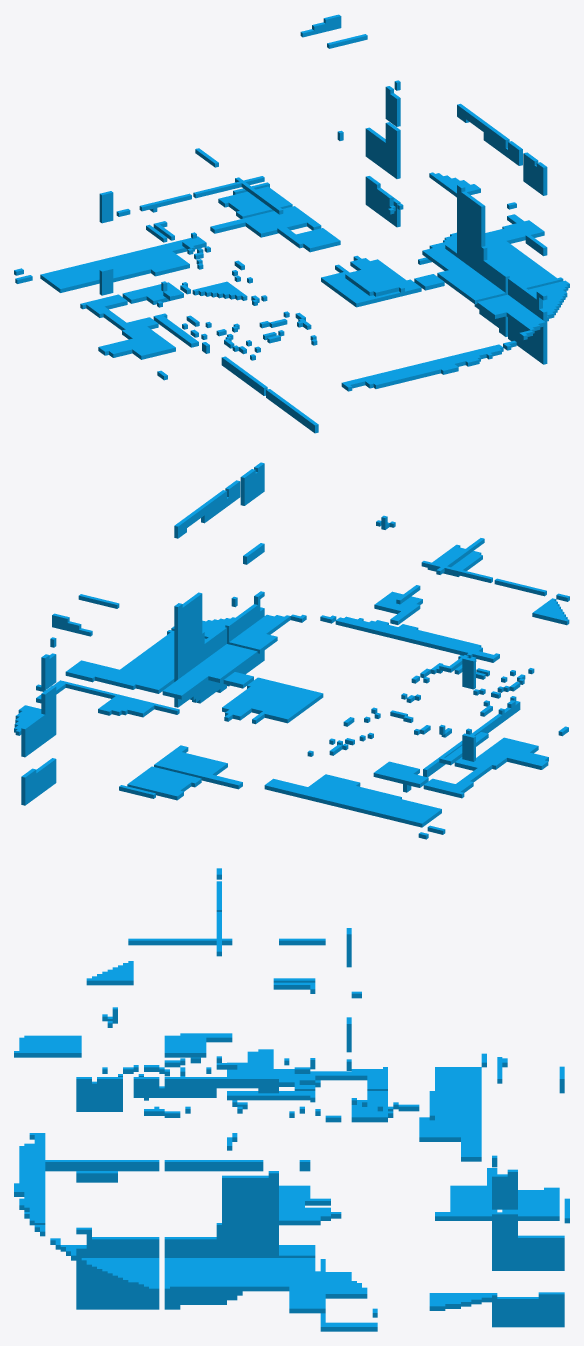
Rendered from 浅蓝光.obj.
The picture shows the model from 3 angles, top to bottom: view 1: azimuth 30°, elevation 25°; view 2: azimuth 150°, elevation 25°; view 3: azimuth 270°, elevation 25°; orthographic projection. The views are drawn at different scales.
Visible parts, largest first — view 1: 浅蓝光; view 2: 浅蓝光; view 3: 浅蓝光.
Part boxes in pixels (box(x1,y1,x2,y2)): 浅蓝光: box(14, 14, 569, 433); 浅蓝光: box(14, 462, 569, 839); 浅蓝光: box(14, 868, 569, 1331).
Bounding box in the file's own units: 121 × 49 × 107.
Materials: 1 (1 with a texture image).
